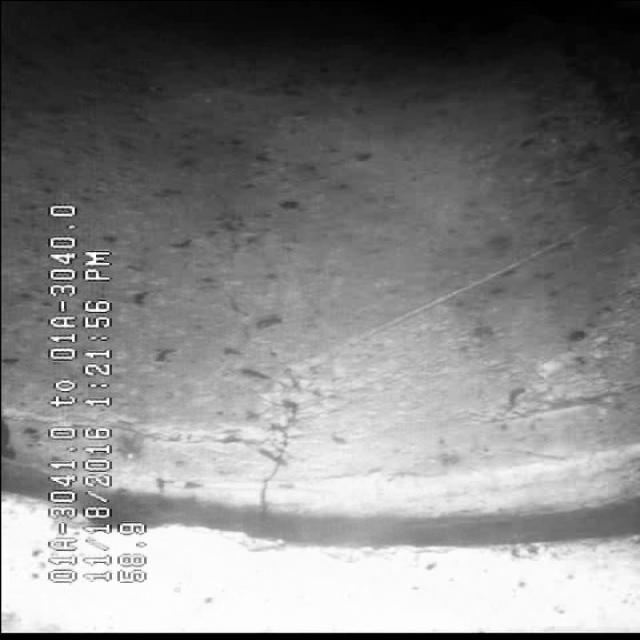Crack: (198, 300, 378, 503)
